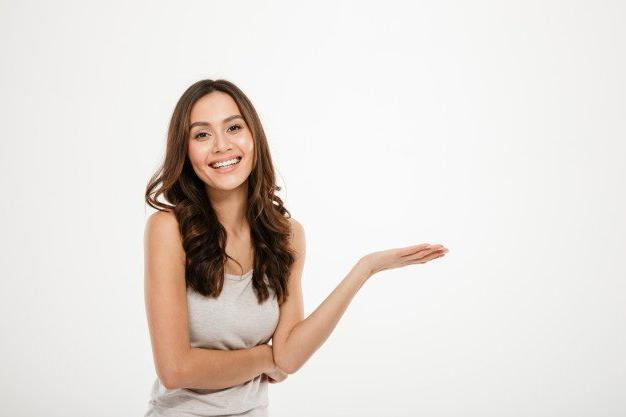Sober: (190, 97, 251, 186)
